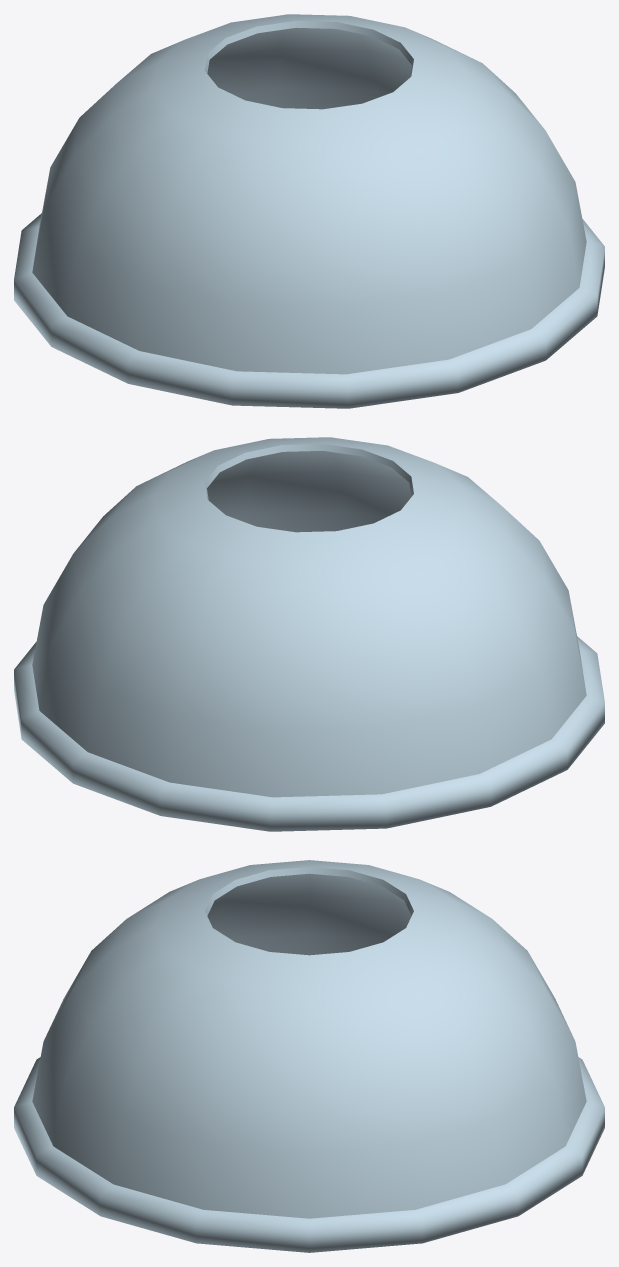
File: Parfait_Plastic_Lid.fbx
The picture shows the model from 3 angles, top to bottom: view 1: azimuth 30°, elevation 25°; view 2: azimuth 150°, elevation 25°; view 3: azimuth 270°, elevation 25°; orthographic projection.
Visible parts, largest first — view 1: Parfait_Plastic_Lid; view 2: Parfait_Plastic_Lid; view 3: Parfait_Plastic_Lid.
Boxes of the visible parts, x1,y1,x2,y2 form: Parfait_Plastic_Lid: (14, 14, 604, 408); Parfait_Plastic_Lid: (14, 437, 604, 831); Parfait_Plastic_Lid: (14, 860, 604, 1252).
Size of the model in its own units: 39.66 by 16.48 by 39.66.
